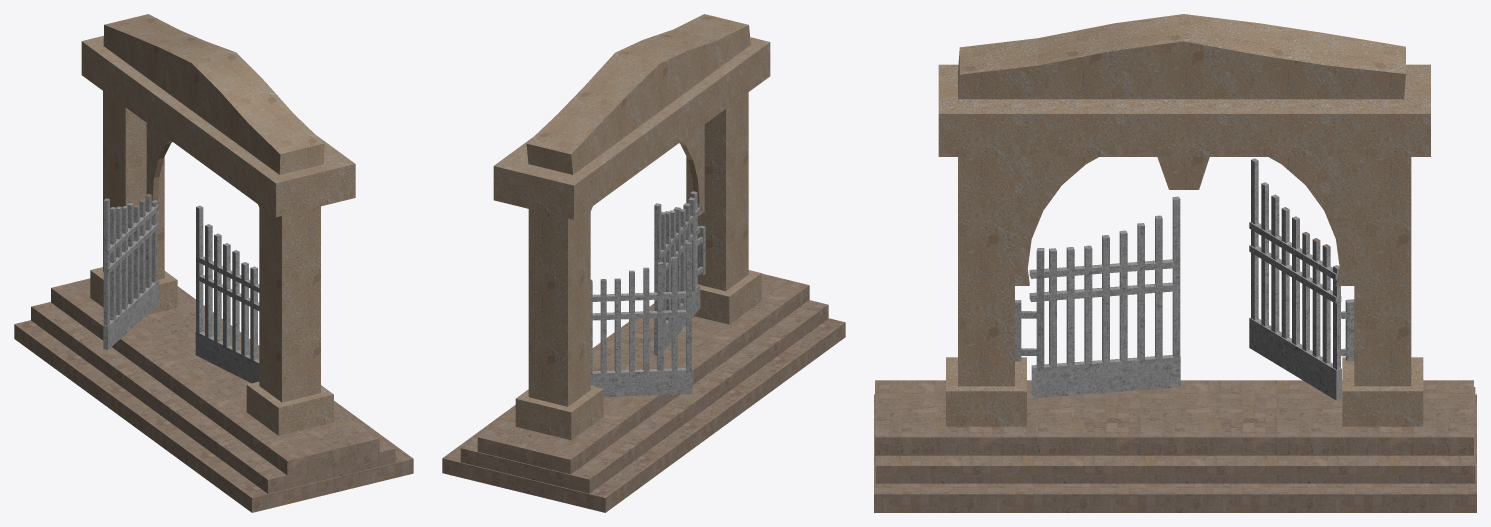
File: OU_AR_Cemetery_Door_01_D.fbx
The picture shows the model from 3 angles, left to right: view 1: azimuth 30°, elevation 25°; view 2: azimuth 150°, elevation 25°; view 3: azimuth 270°, elevation 25°; orthographic projection. The views are drawn at different scales.
Parts seen in each view (by area): view 1: Cemetery_Door; view 2: Cemetery_Door; view 3: Cemetery_Door.
Part boxes in pixels (box(x1,y1,x2,y2)): Cemetery_Door: box(14, 14, 413, 512); Cemetery_Door: box(442, 14, 845, 512); Cemetery_Door: box(874, 14, 1476, 512).
Size of the model in its own units: 212 by 432 by 539.
3 materials, 3 textured.
